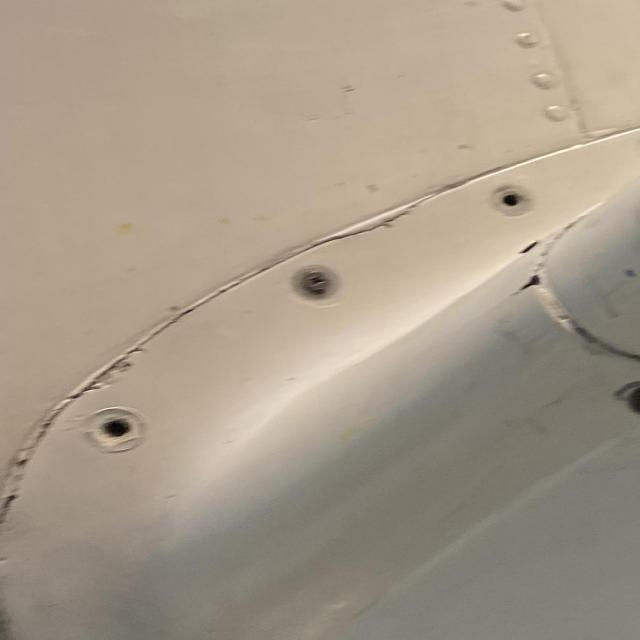Crack: (311, 194, 444, 243), (510, 268, 544, 295)
Missing-head: (83, 409, 140, 452), (490, 185, 530, 215), (620, 383, 640, 416)
Paint-off: (617, 264, 640, 281)
